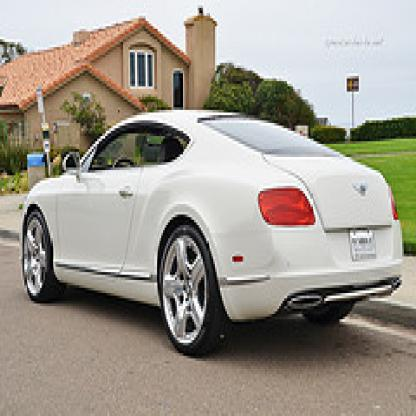Vehicle: (14, 97, 411, 371)
